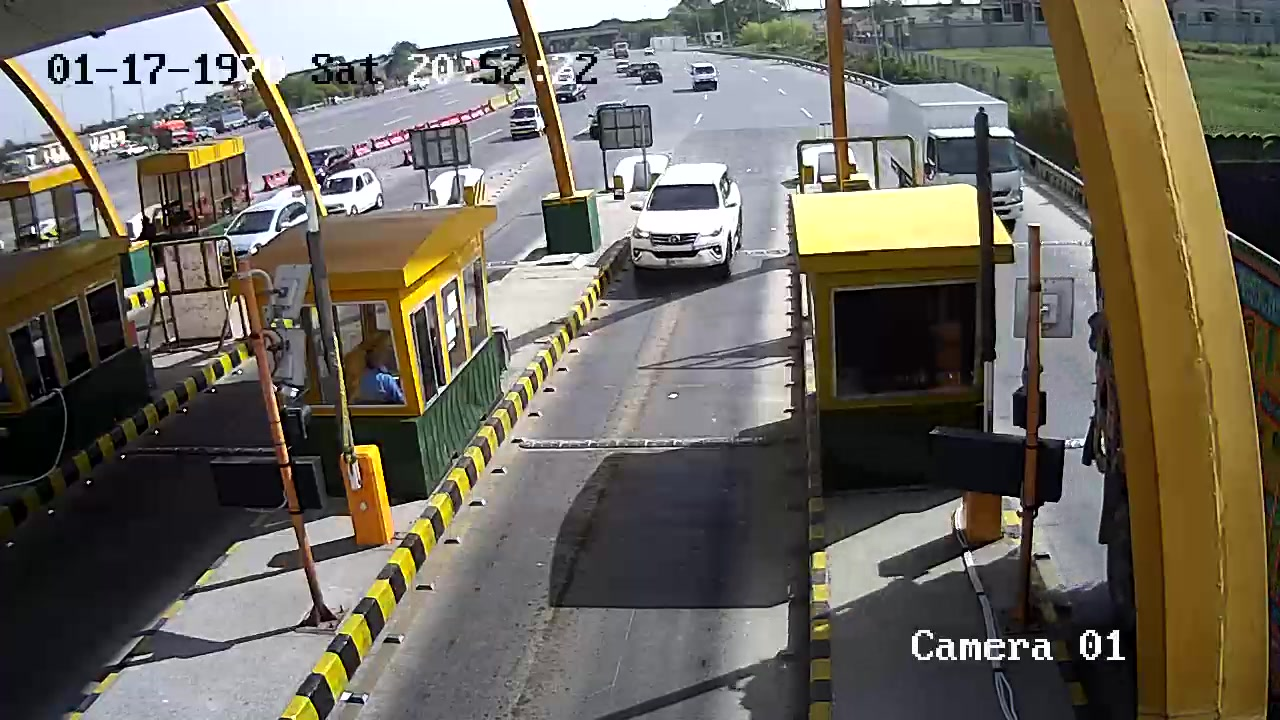F1: (620, 156, 755, 284)
